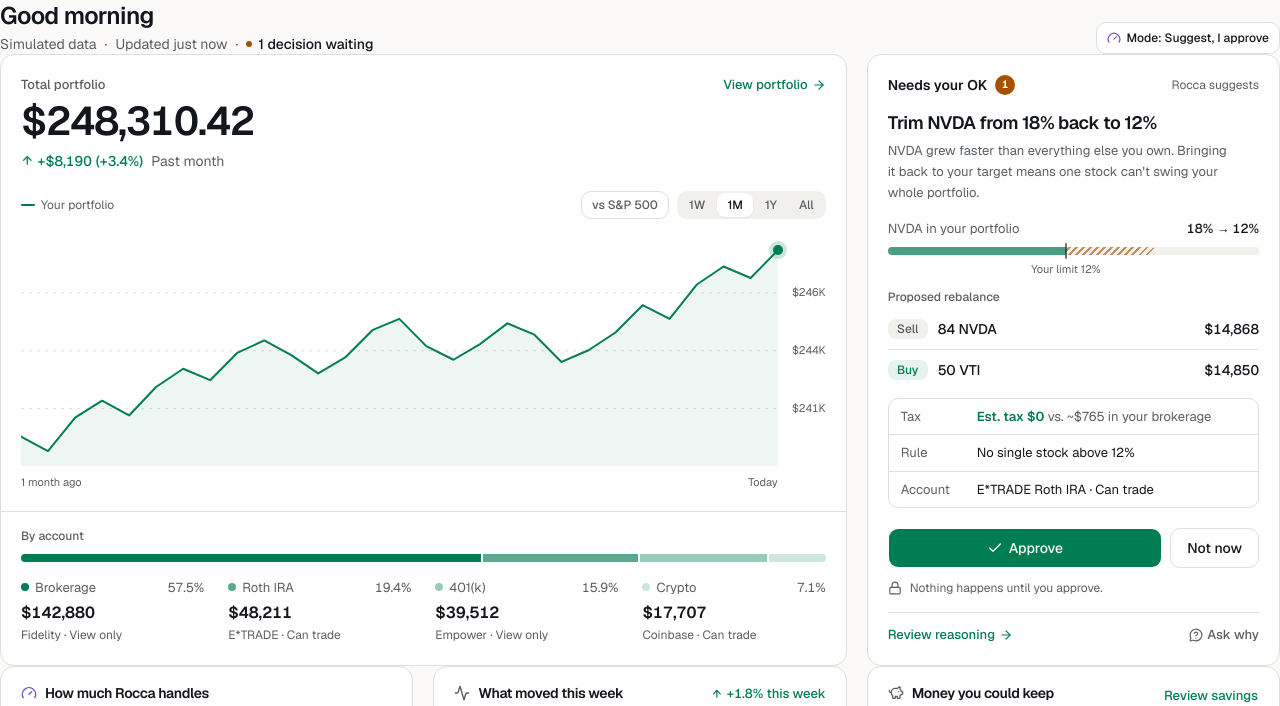
Test case: Overview › opens the reasoning, with its sources, in a side panel
This screenshot has width=1280, height=706.
Click the button "Review reasoning". click: (950, 635)
box: [888,625,1013,645]
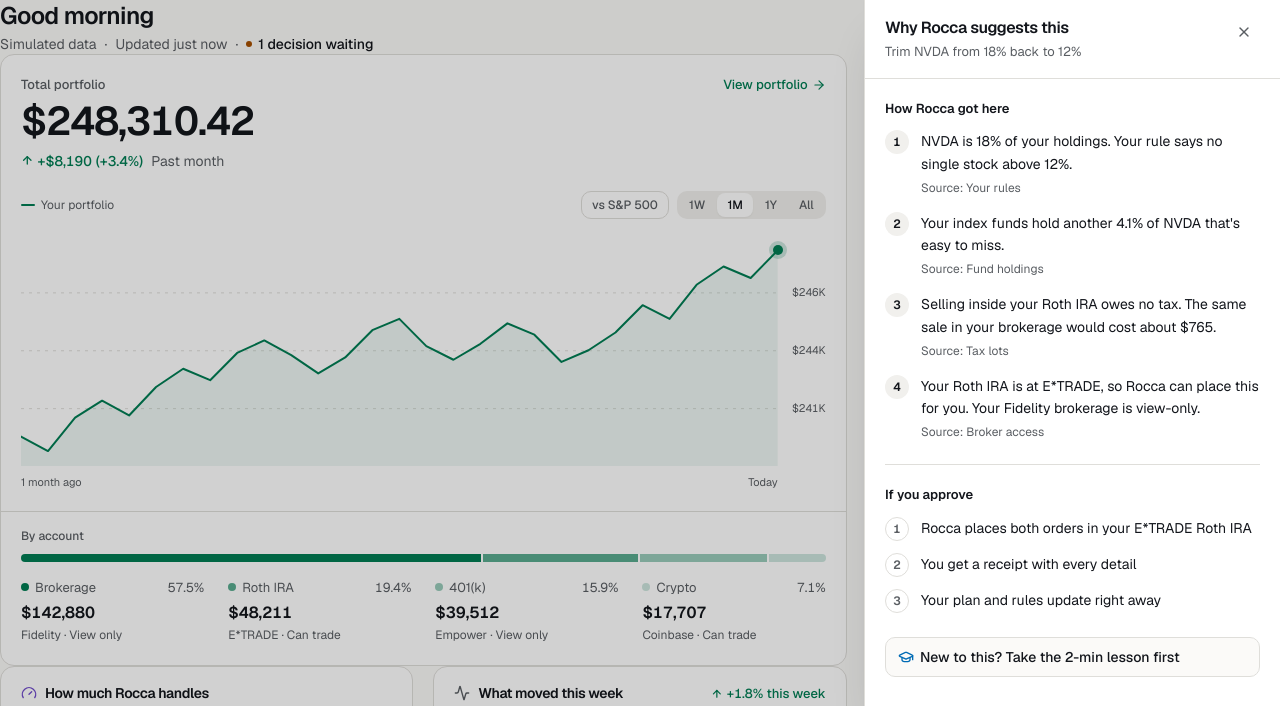
Expected: the text "NVDA is 18% of your holdings. Your rule says no single stock above 12%." is shown, [921,130,1260,176]
Expected: the text "Your index funds hold another 4.1% of NVDA that's easy to miss." is shown, [921,212,1260,257]
Expected: the text "Selling inside your Roth IRA owes no tax. The same sale in your brokerage would cost about $765." is shown, [921,295,1246,336]
